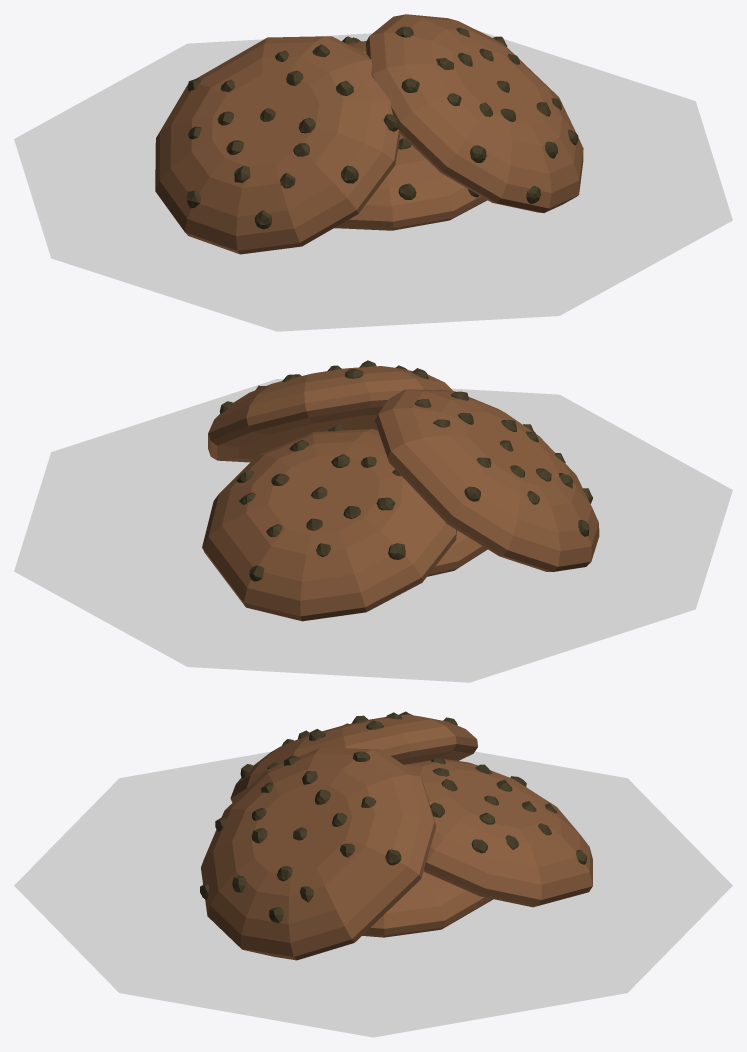
Rendered from darkCookieBaked.fbx.
The picture shows the model from 3 angles, top to bottom: view 1: azimuth 30°, elevation 25°; view 2: azimuth 150°, elevation 25°; view 3: azimuth 270°, elevation 25°; orthographic projection. The views are drawn at different scales.
Parts seen in each view (by area): view 1: Cylinder, Icosphere.003, Icosphere.002, Icosphere; view 2: Cylinder, Icosphere.001, Icosphere.003, Icosphere.002, Icosphere; view 3: Cylinder, Icosphere.002, Icosphere.001, Icosphere.003, Icosphere.
Part boxes in pixels (x1,y1,x2,y2): Cylinder: [14, 30, 732, 331]; Icosphere.003: [155, 36, 400, 254]; Icosphere.002: [366, 14, 583, 212]; Icosphere: [334, 134, 487, 230]; Cylinder: [14, 379, 732, 682]; Icosphere.001: [202, 424, 456, 621]; Icosphere.003: [375, 389, 599, 571]; Icosphere.002: [208, 360, 452, 462]; Icosphere: [427, 530, 487, 576]; Cylinder: [14, 751, 732, 1037]; Icosphere.002: [200, 747, 436, 960]; Icosphere.001: [404, 758, 592, 907]; Icosphere.003: [230, 711, 477, 802]; Icosphere: [362, 871, 493, 937].
Bounding box in the file's own units: 165 × 44.43 × 165.
